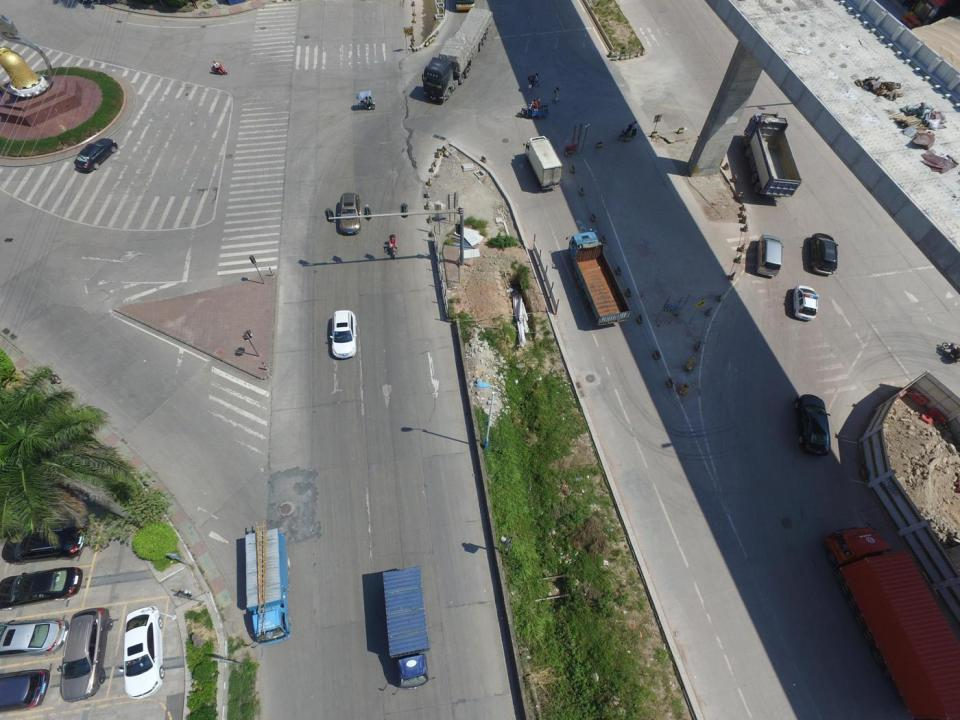car: (57, 607, 113, 703), (120, 606, 165, 700), (0, 567, 83, 609), (2, 527, 86, 565), (0, 619, 69, 656), (796, 394, 833, 456), (0, 669, 50, 709), (75, 137, 118, 172), (330, 309, 356, 360), (810, 232, 838, 276), (339, 194, 363, 234), (792, 285, 818, 321)
van: (825, 527, 958, 717), (421, 8, 493, 103), (565, 229, 632, 328), (381, 567, 429, 689), (245, 528, 290, 644), (743, 111, 802, 199), (526, 135, 562, 191), (757, 234, 784, 278)
